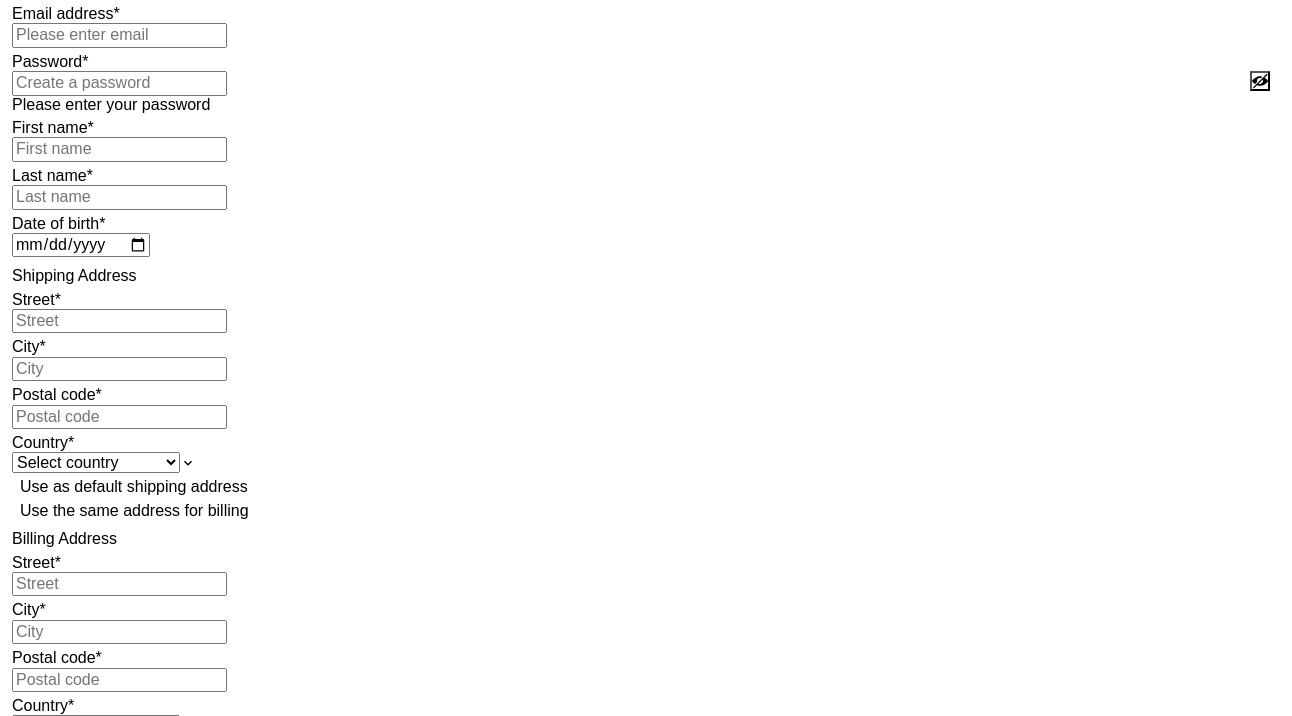
Scenario: SignUpForm › should say if firstname contains not only Latin letters
In the field with placeholder "First name": (120, 150) x1=12 y1=137 x2=227 y2=162, type "1"
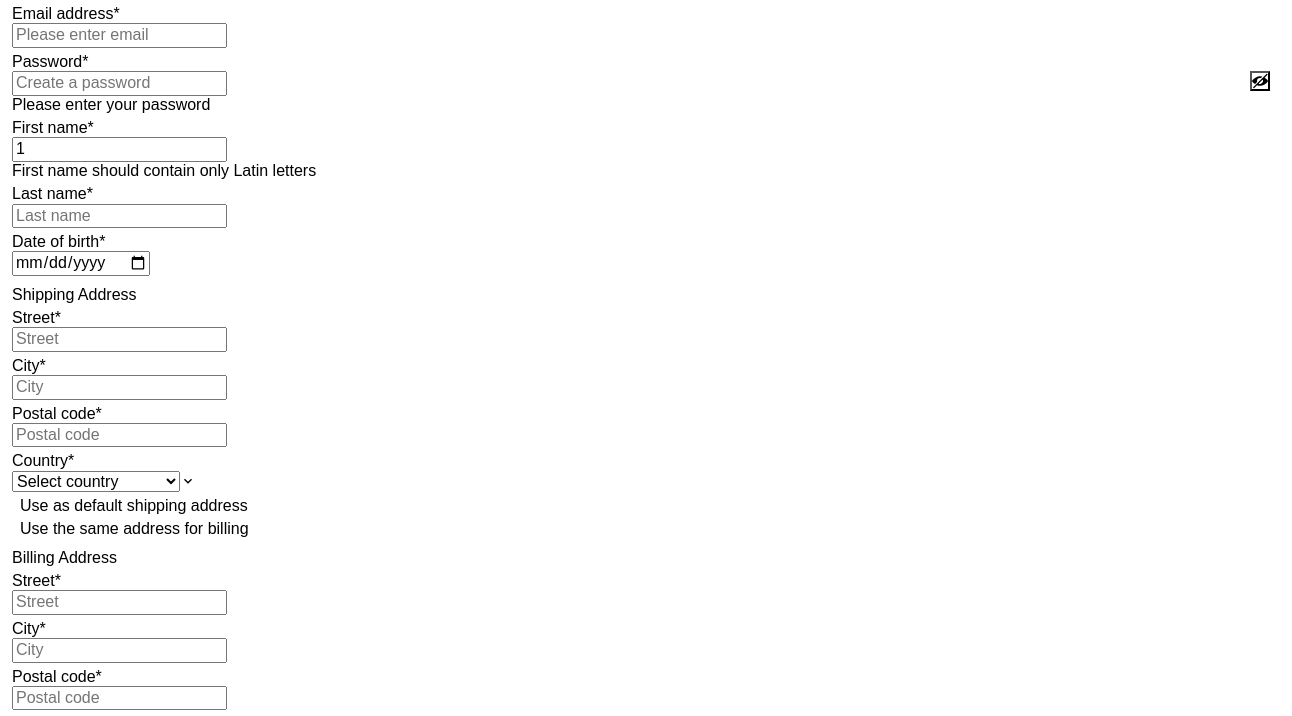
Expected: the text "First name should contain only Latin letters" is shown, x1=12 y1=162 x2=316 y2=179
